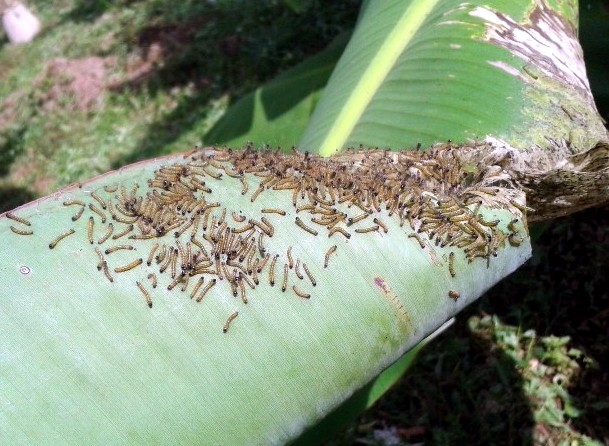Armyworm: (217, 310, 249, 341), (45, 223, 72, 257), (132, 278, 157, 314), (195, 276, 220, 306), (320, 237, 337, 280), (258, 201, 290, 223), (8, 220, 37, 244), (114, 256, 145, 277), (3, 208, 35, 228), (201, 162, 230, 180), (399, 232, 425, 248), (84, 215, 97, 247), (284, 284, 320, 295), (91, 190, 110, 209), (349, 226, 381, 237), (243, 177, 248, 199)
